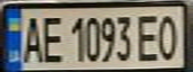0: (81, 12, 100, 63)
1: (63, 12, 84, 63)
3: (115, 11, 136, 62)
9: (100, 12, 118, 63)
A: (18, 11, 45, 64)
E: (39, 11, 66, 64), (136, 10, 163, 62)
O: (154, 10, 184, 62)
